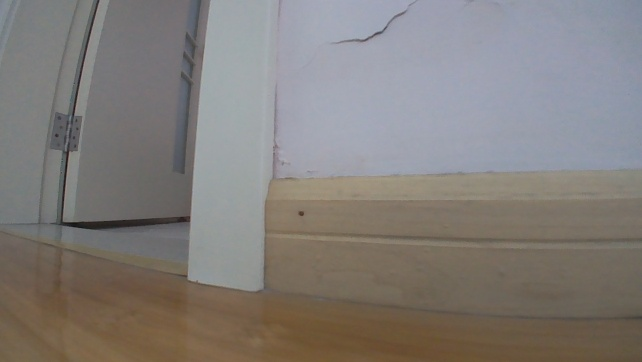door_anno: (0, 0, 212, 232)
